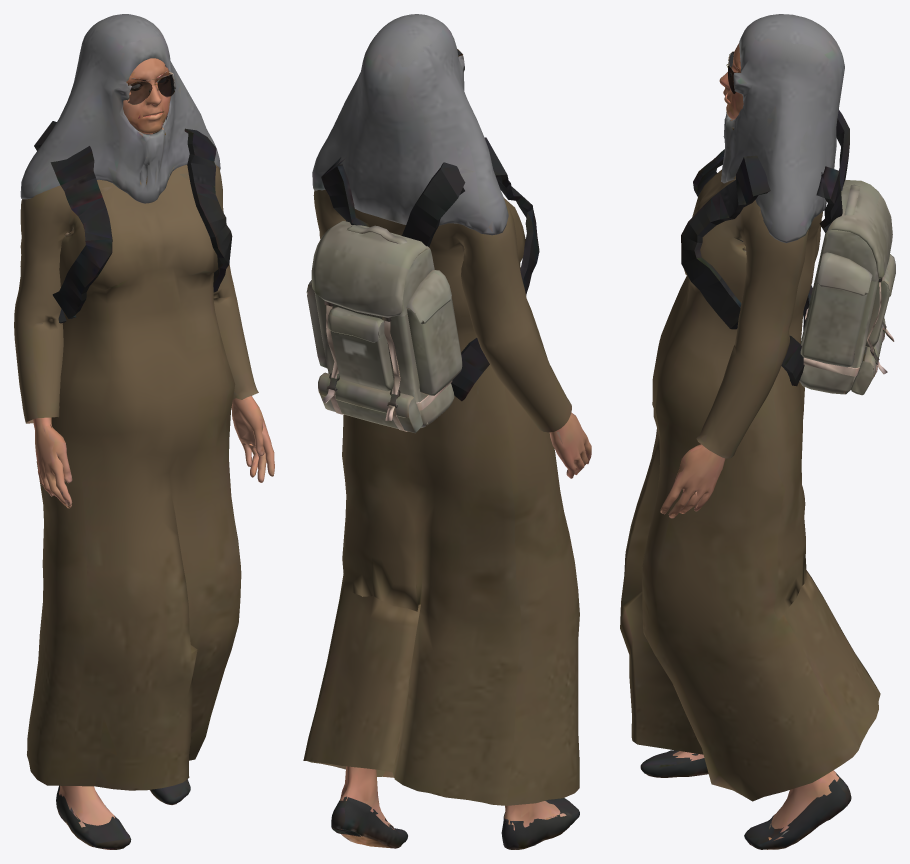
The picture shows the model from 3 angles, left to right: view 1: azimuth 30°, elevation 25°; view 2: azimuth 150°, elevation 25°; view 3: azimuth 270°, elevation 25°; orthographic projection. The views are drawn at different scales.
Parts seen in each view (by area): view 1: hijabv3_w003; view 2: hijabv3_w003; view 3: hijabv3_w003.
Boxes of the visible parts, x1,y1,x2,y2 form: hijabv3_w003: [14, 14, 274, 849]; hijabv3_w003: [303, 14, 591, 849]; hijabv3_w003: [620, 14, 895, 849].
Size of the model in its own units: 0.46 by 1.58 by 0.4875.
Materials: 1 (1 with a texture image).
